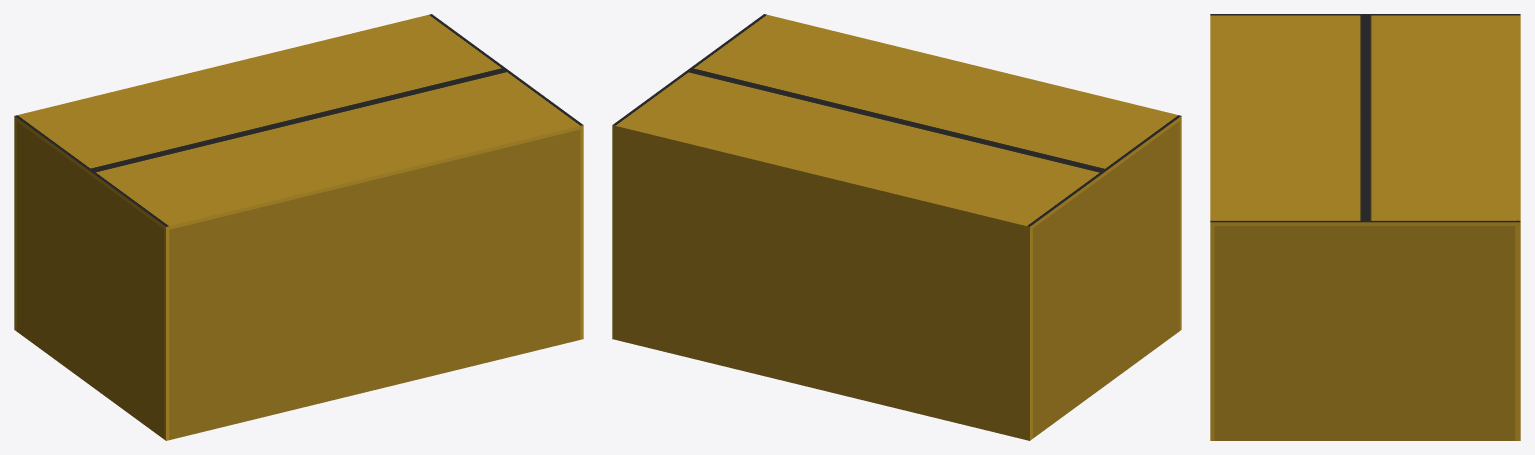
Rendered from BoxMedium.glb.
3 renders of one model, left to right at view 1: azimuth 30°, elevation 25°; view 2: azimuth 150°, elevation 25°; view 3: azimuth 270°, elevation 25°, orthographic. The views are drawn at different scales.
Visible parts, largest first — view 1: BoxMedium; view 2: BoxMedium; view 3: BoxMedium.
Boxes of the visible parts, box(x1,y1,x2,y2) form: BoxMedium: box(14, 14, 583, 440); BoxMedium: box(612, 14, 1181, 440); BoxMedium: box(1210, 14, 1520, 440).
Bounding box in the file's own units: 2 × 0.9815 × 1.26.
Materials: 1 (1 with a texture image).
